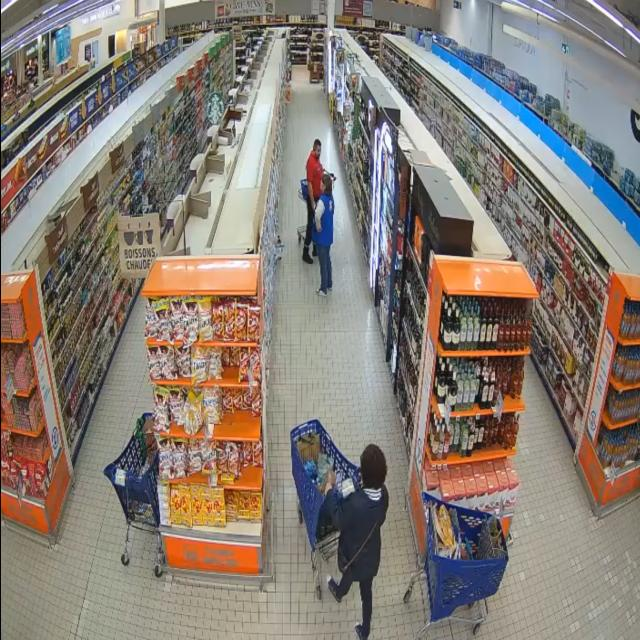bags: (338, 521, 378, 573)
hands: (324, 483, 332, 496), (310, 196, 316, 209), (316, 224, 321, 232)
person: (325, 445, 388, 639), (312, 174, 334, 297), (303, 139, 323, 263)
